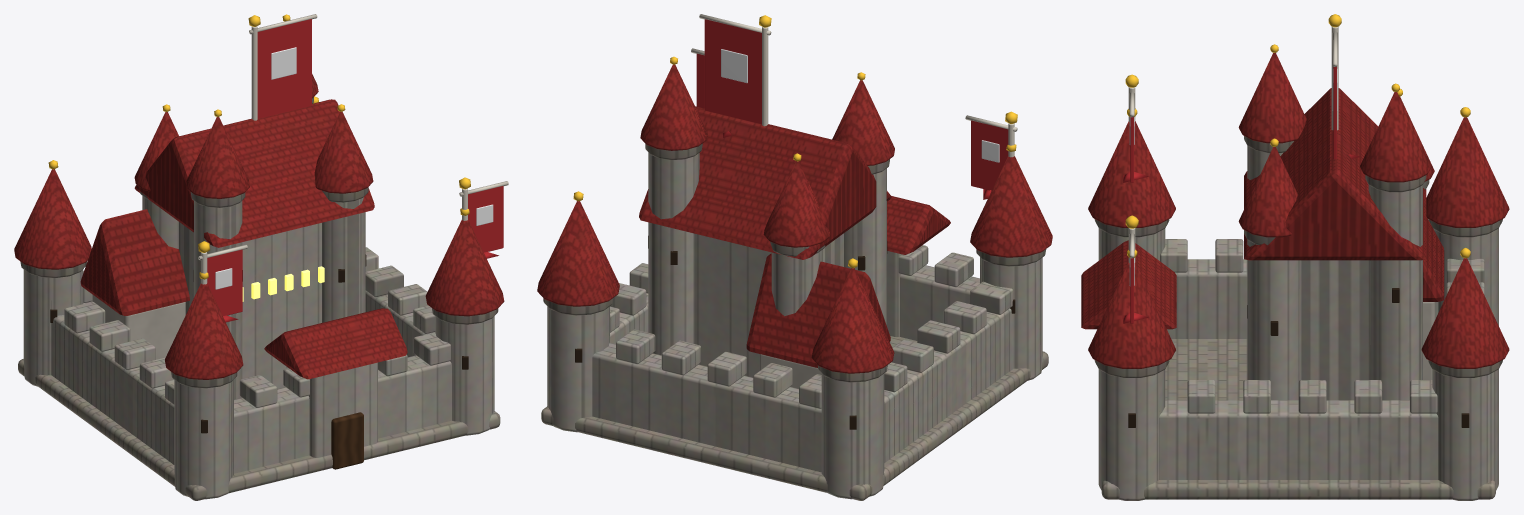
The model's file is castle_red.glb.
The picture shows the model from 3 angles, left to right: view 1: azimuth 30°, elevation 25°; view 2: azimuth 150°, elevation 25°; view 3: azimuth 270°, elevation 25°; orthographic projection. The views are drawn at different scales.
Parts seen in each view (by area): view 1: base; view 2: base; view 3: base.
Boxes of the visible parts, x1=… form: base: x1=14, y1=14, x2=508, y2=500; base: x1=537, y1=14, x2=1052, y2=500; base: x1=1081, y1=14, x2=1509, y2=500.
Bounding box in the file's own units: 1.42 × 1.5 × 1.41.
3 materials, 1 textured.
